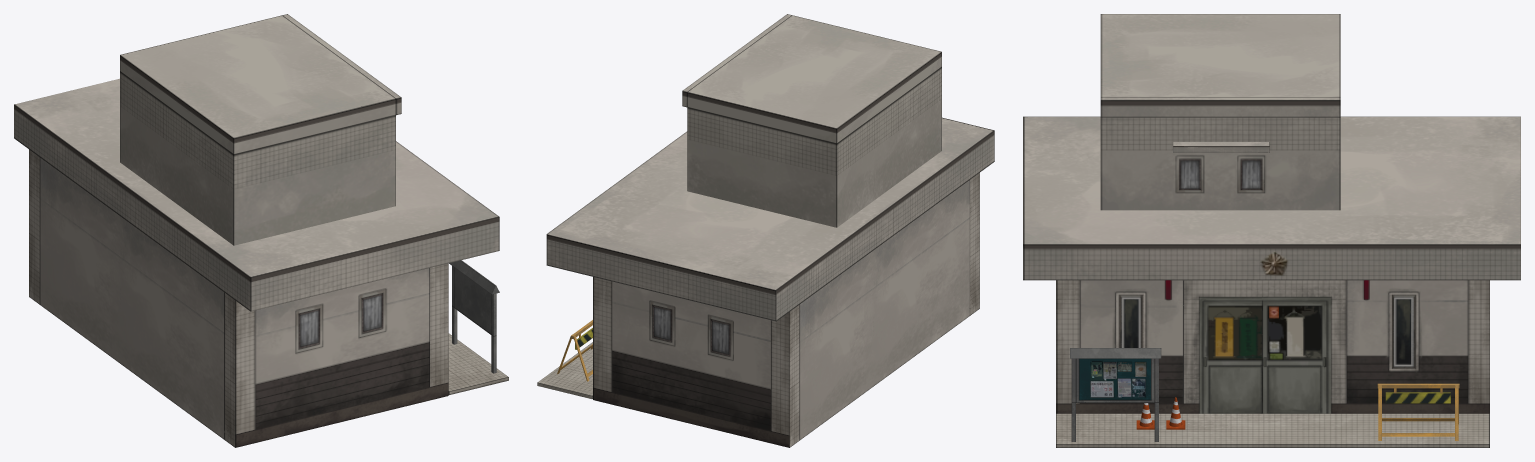
File: Police box03.fbx
3 renders of one model, left to right at view 1: azimuth 30°, elevation 25°; view 2: azimuth 150°, elevation 25°; view 3: azimuth 270°, elevation 25°, orthographic. The views are drawn at different scales.
Parts seen in each view (by area): view 1: Cube.046, Cube.229, Cube.228, Cube.231, Cube.232; view 2: Cube.046, Cube.229, Cube.228, Cube.232, Cube.008; view 3: Cube.228, Cube.046, Cube.229, Cube.232, Cube.231, Cube.008, Cube.003.
Part boxes in pixels (bbox=[...]): Cube.046: bbox=[29, 149, 448, 447]; Cube.229: bbox=[120, 14, 401, 245]; Cube.228: bbox=[14, 78, 499, 311]; Cube.231: bbox=[449, 260, 499, 373]; Cube.232: bbox=[448, 333, 508, 394]; Cube.046: bbox=[593, 173, 979, 447]; Cube.229: bbox=[682, 14, 941, 227]; Cube.228: bbox=[546, 117, 994, 321]; Cube.232: bbox=[537, 342, 592, 398]; Cube.008: bbox=[557, 320, 592, 381]; Cube.228: bbox=[1023, 116, 1520, 280]; Cube.046: bbox=[1056, 280, 1489, 413]; Cube.229: bbox=[1100, 14, 1340, 210]; Cube.232: bbox=[1056, 413, 1489, 447]; Cube.231: bbox=[1070, 348, 1161, 441]; Cube.008: bbox=[1377, 383, 1459, 440]; Cube.003: bbox=[1173, 142, 1269, 152].
Bounding box in the file's own units: 218 × 220 × 327.
